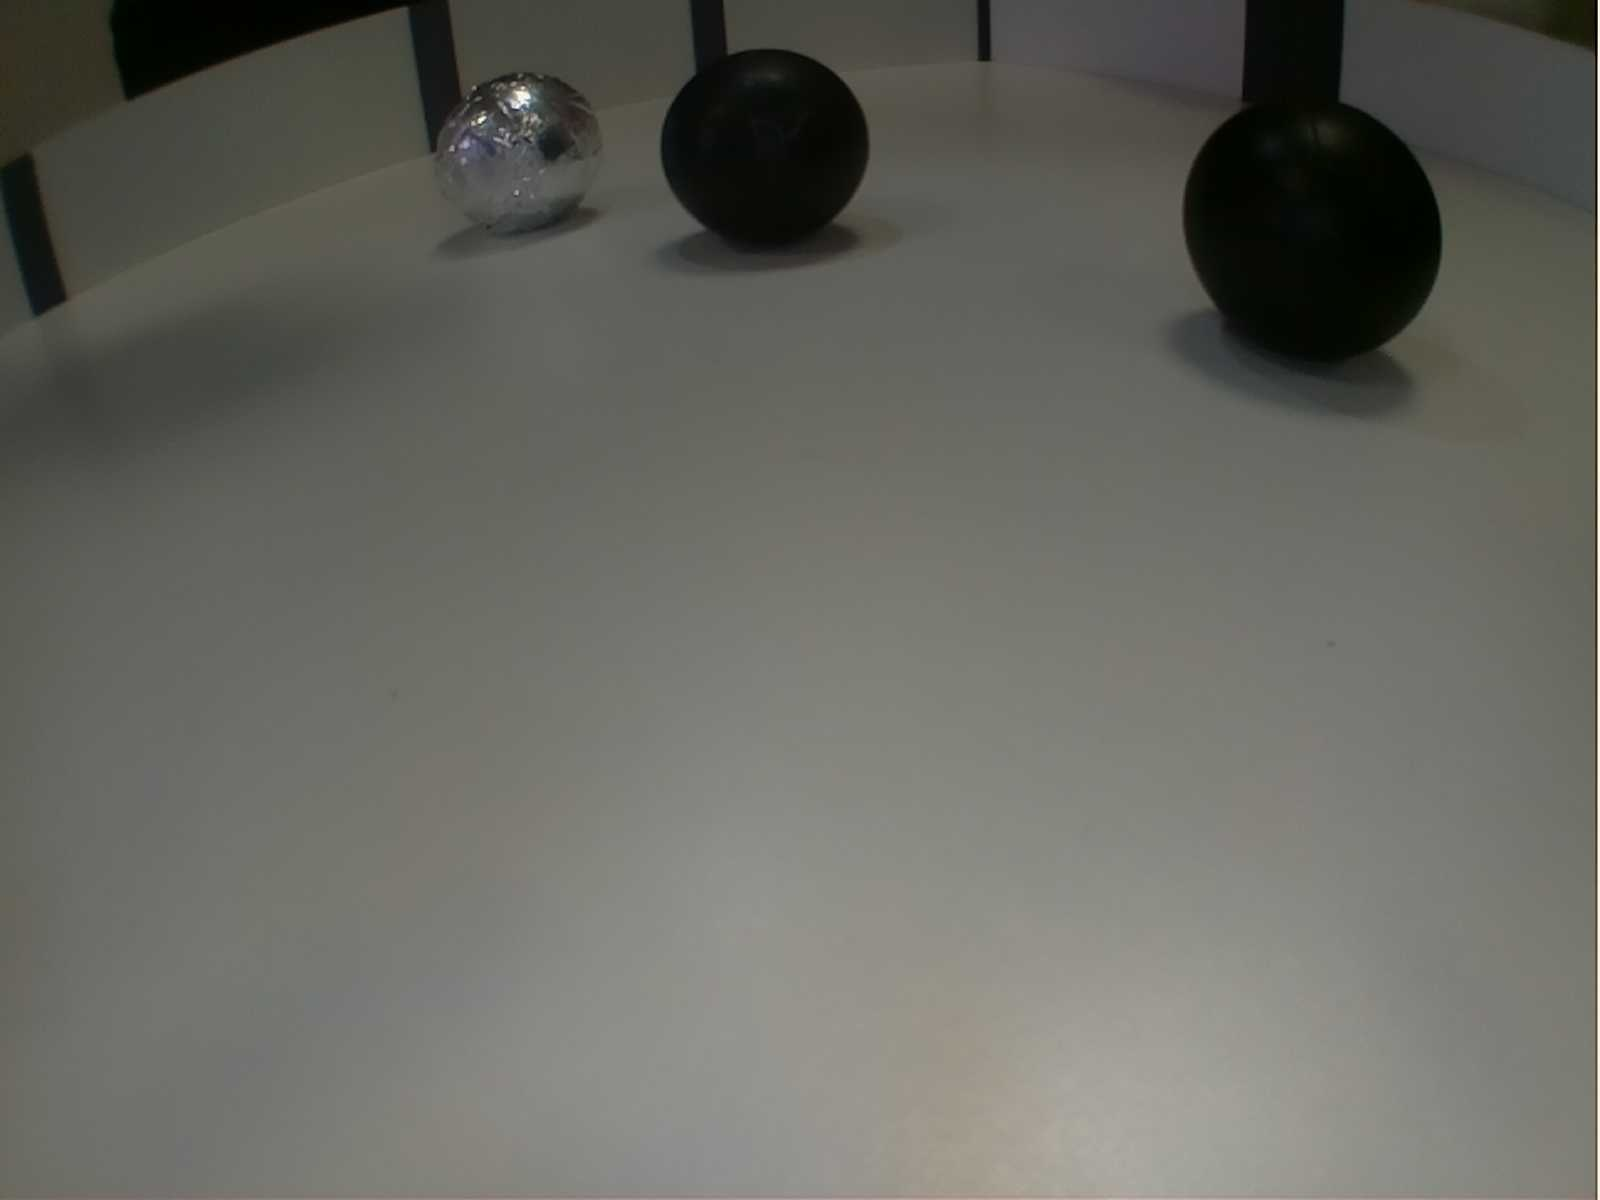bianca: (433, 68, 606, 239)
nera: (1177, 92, 1439, 384), (655, 45, 877, 253)
